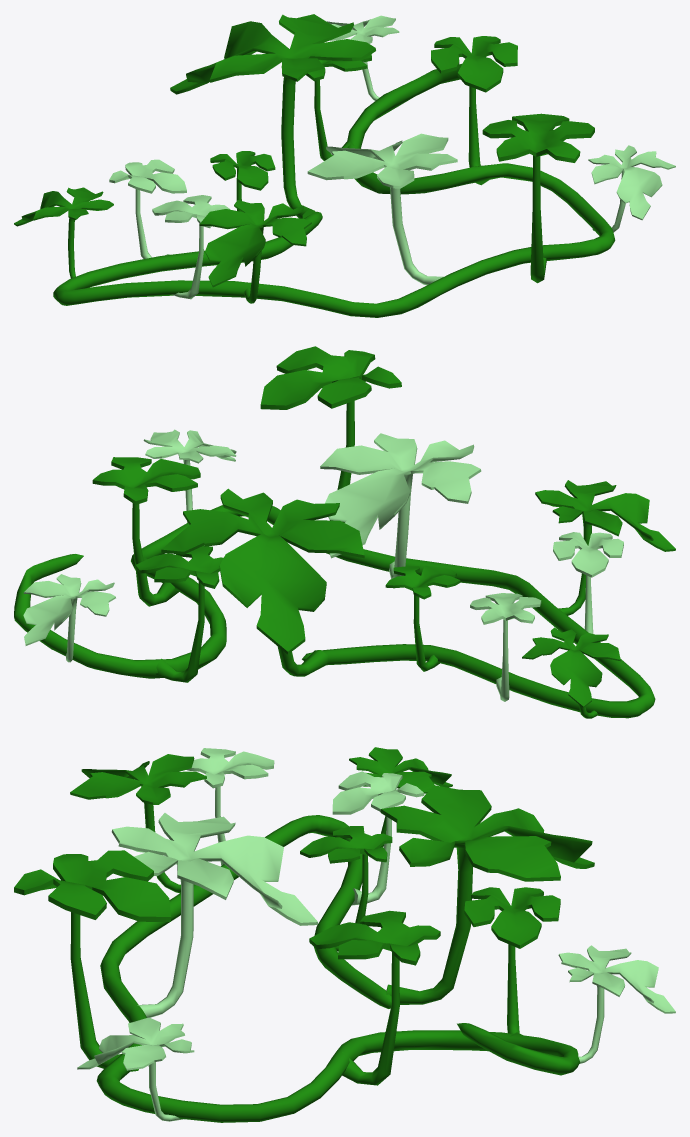
The model's file is WatermelonLeafs.fbx.
3 views of the same model, one above another, from view 1: azimuth 30°, elevation 25°; view 2: azimuth 150°, elevation 25°; view 3: azimuth 270°, elevation 25° (orthographic). The views are drawn at different scales.
Parts seen in each view (by area): view 1: WatermelonTree; view 2: WatermelonTree; view 3: WatermelonTree.
Part boxes in pixels (x1,y1,x2,y2): WatermelonTree: [14, 14, 675, 317]; WatermelonTree: [14, 346, 675, 718]; WatermelonTree: [14, 747, 675, 1122].
Size of the model in its own units: 4255 by 1197 by 3699.
